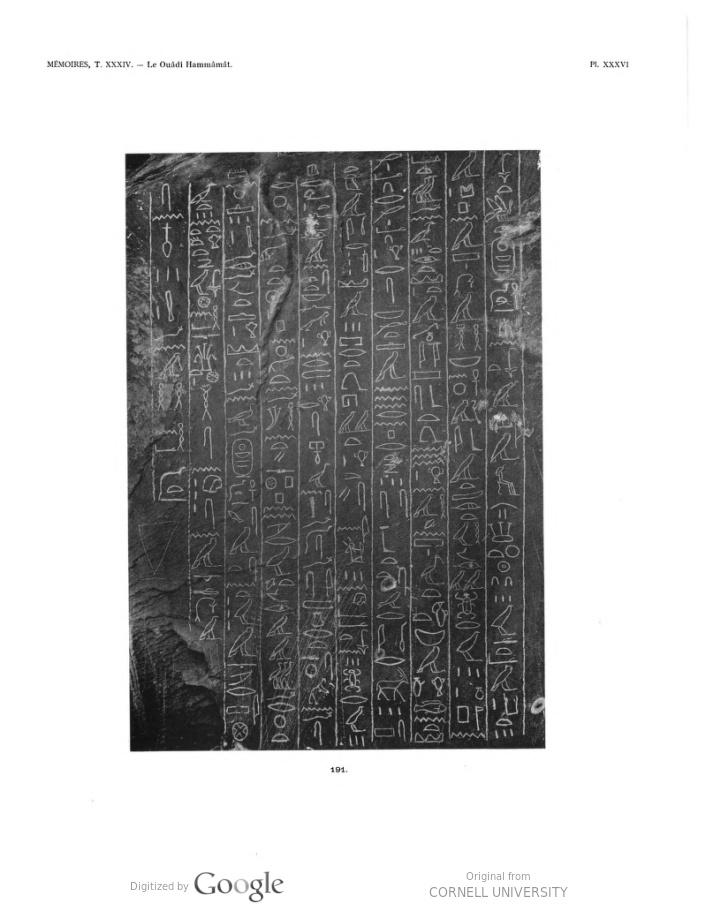circle: (486, 236, 529, 297), (229, 427, 259, 481)
